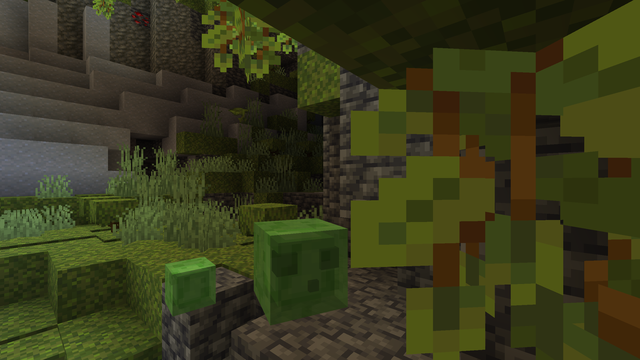slimes: (242, 215, 349, 329), (160, 255, 217, 317)
